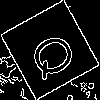Q: (25, 25, 87, 84)
